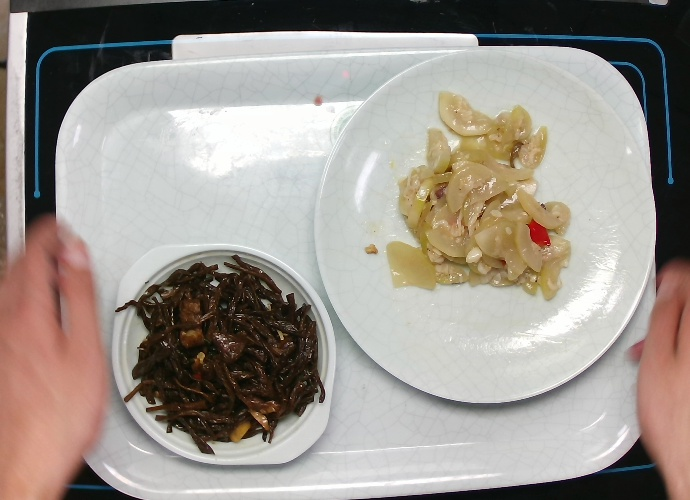JYsf-Da_Yuan_Pan: (305, 45, 655, 409)
JYsf-Shuang_Er_Pan: (110, 233, 343, 478)
